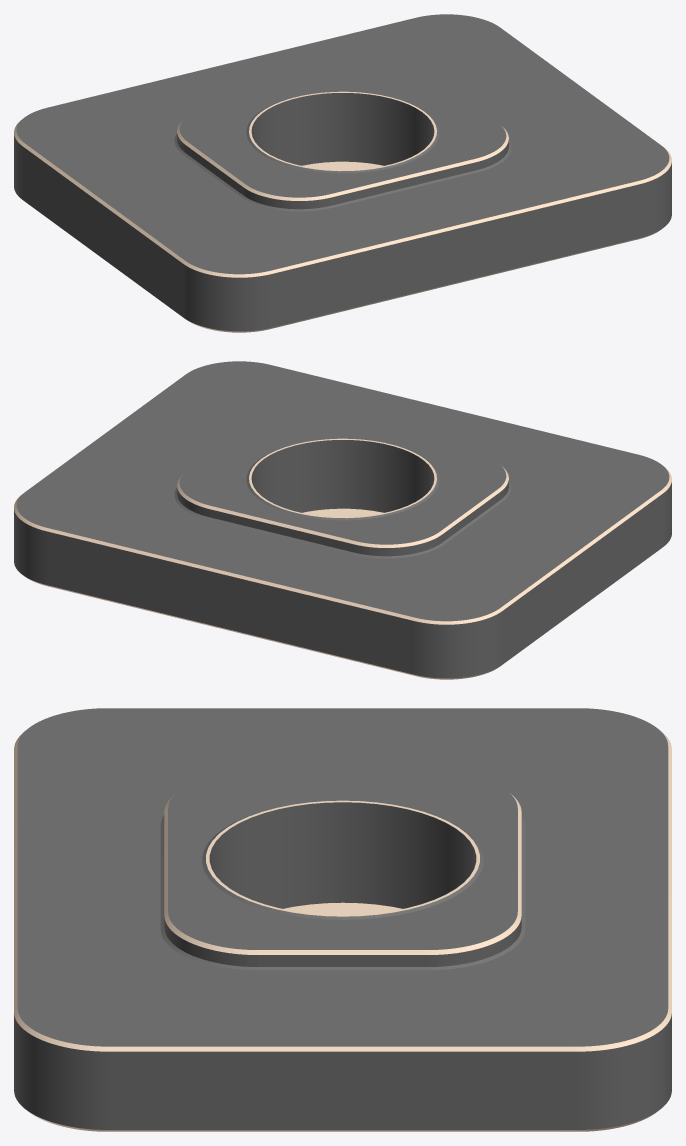
The model's file is CneButtonCase.fbx.
3 views of the same model, one above another, from view 1: azimuth 30°, elevation 25°; view 2: azimuth 150°, elevation 25°; view 3: azimuth 270°, elevation 25° (orthographic). The views are drawn at different scales.
Visible parts, largest first — view 1: Model; view 2: Model; view 3: Model.
Part boxes in pixels (x1,y1,x2,y2): Model: [14, 14, 671, 332]; Model: [14, 361, 671, 679]; Model: [14, 708, 671, 1131].
Bounding box in the file's own units: 430 × 61 × 350.
